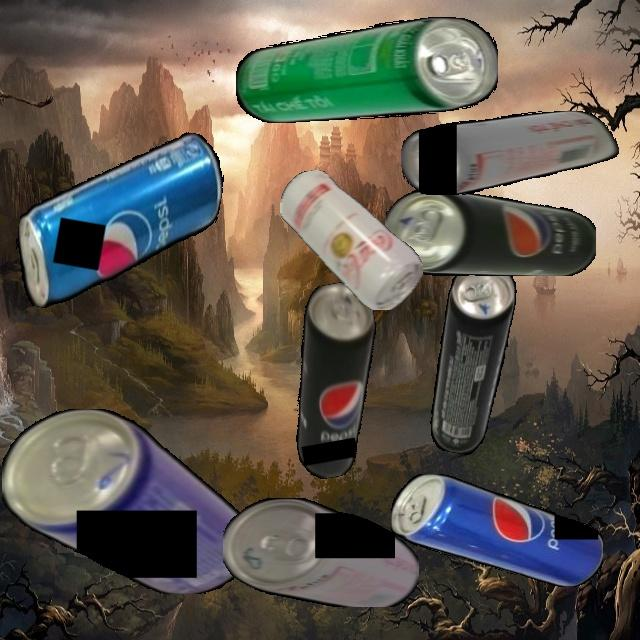debris: (6, 107, 231, 334), (2, 408, 252, 594), (235, 17, 498, 123), (271, 278, 400, 482), (390, 474, 603, 587), (223, 497, 419, 607), (280, 169, 423, 310), (422, 258, 521, 458), (385, 188, 596, 276), (401, 110, 619, 195)
